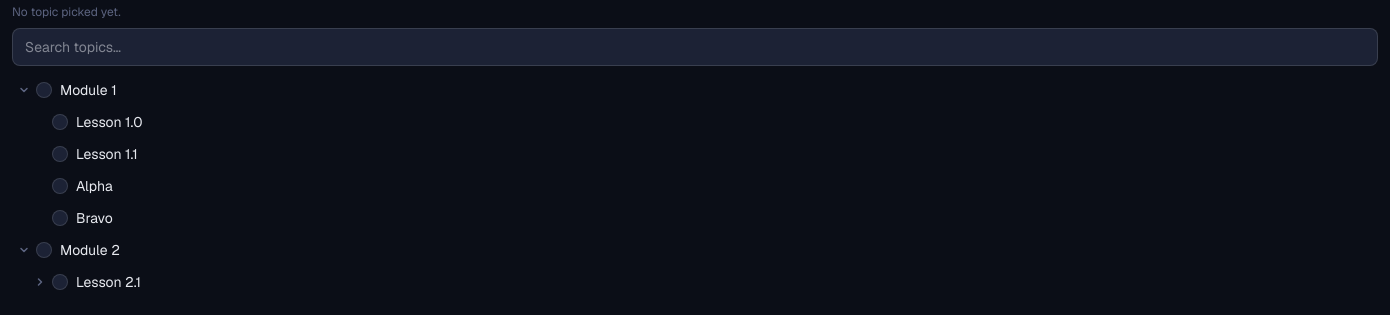
it: TopicTreePicker › expands and collapses a module by click
Click the button named "Expand Lesson 2.1".
click(40, 282)  # box [28,266,52,298]
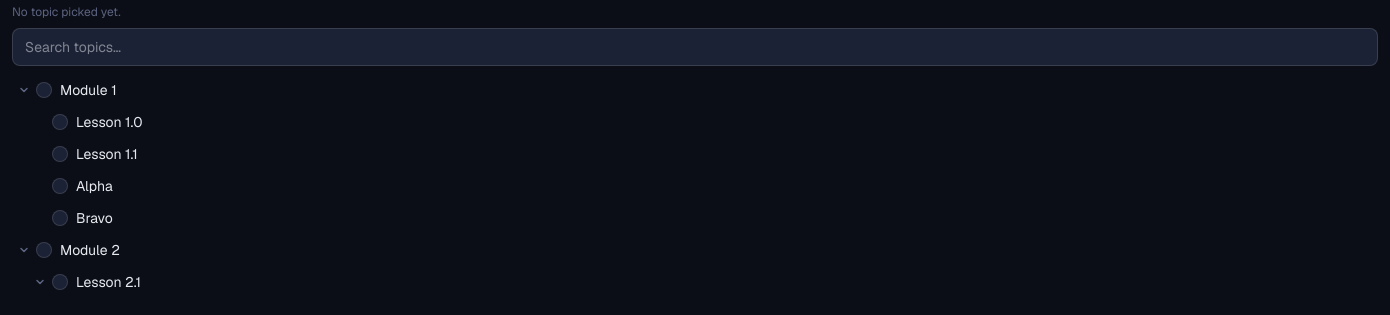
Click the button named "Collapse Lesson 2.1".
click(40, 282)  # box [28,266,52,298]
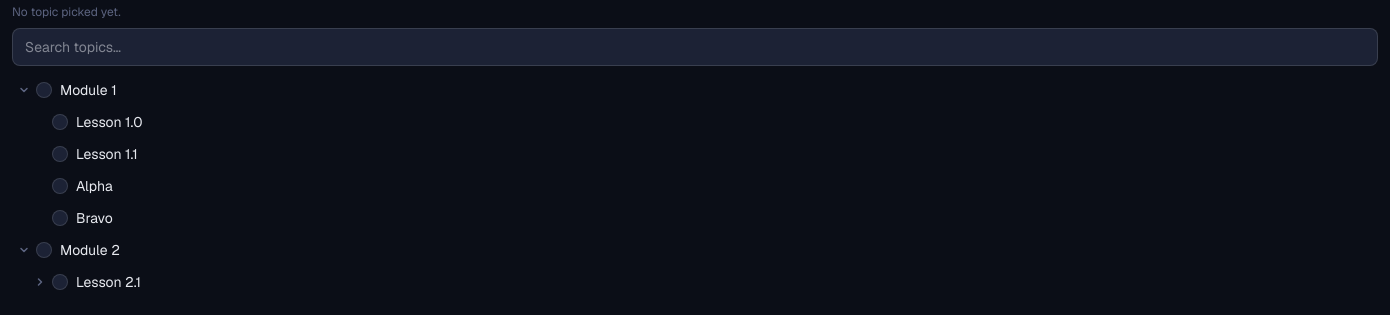
Expected: the radio button labelled "Heian Shodan" is not shown
// A root collapses too.
Click the button named "Collapse Module 1".
click(24, 90)  # box [12,74,36,106]
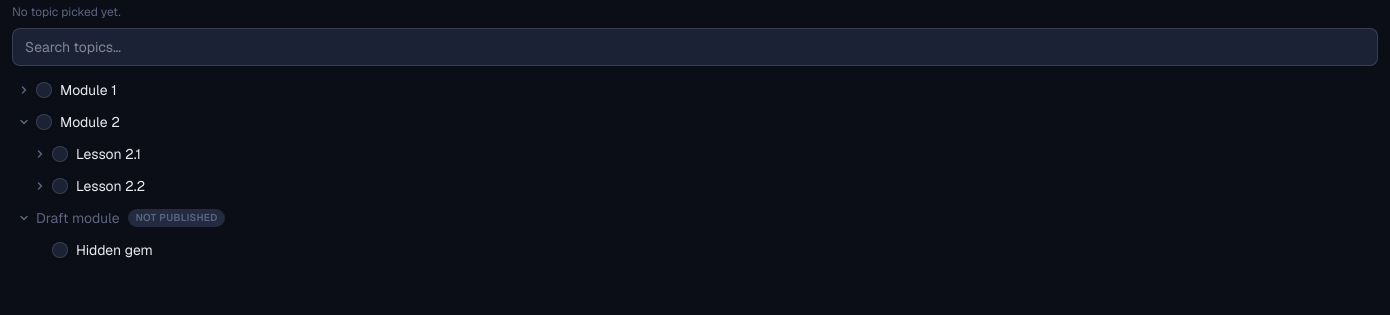
Now the radio button labelled "Lesson 1.0" is gone
